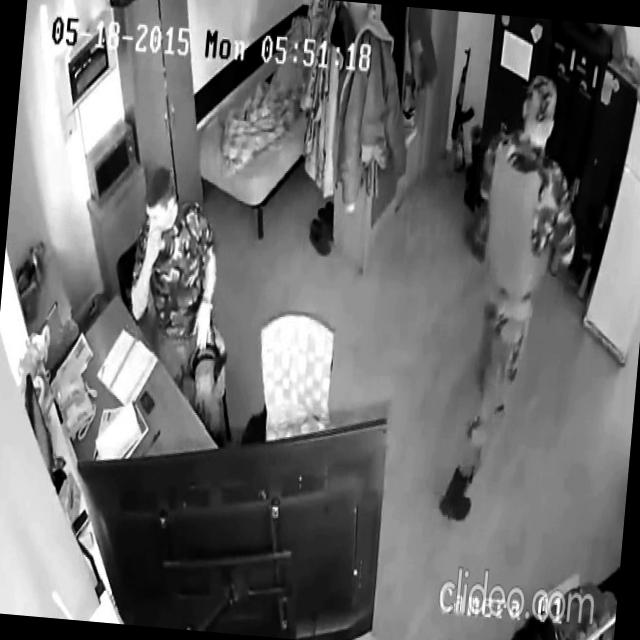gun: (446, 45, 480, 176)
person: (436, 68, 590, 529), (116, 162, 250, 448)
